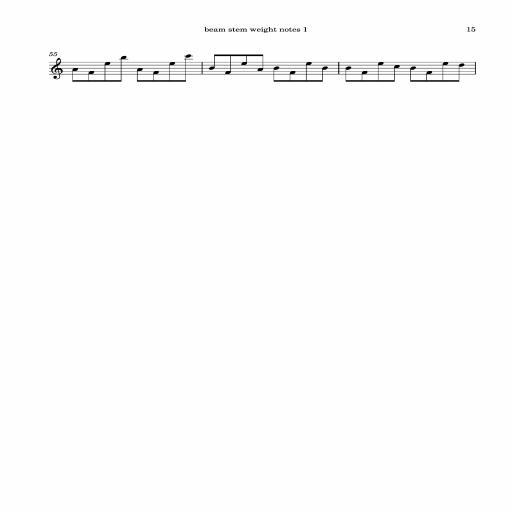eighth_note: (118, 56, 127, 82), (183, 54, 191, 82), (225, 54, 234, 74), (209, 54, 219, 70), (304, 62, 312, 82), (318, 66, 328, 82), (456, 63, 464, 82), (392, 65, 400, 82), (104, 62, 110, 82), (169, 62, 175, 82), (378, 62, 384, 82), (442, 62, 448, 82), (258, 54, 264, 71), (274, 66, 280, 82), (346, 66, 352, 82), (410, 66, 416, 82), (241, 54, 249, 65), (72, 68, 78, 82), (136, 68, 142, 82), (425, 71, 432, 82), (88, 71, 94, 82), (153, 71, 159, 82), (289, 71, 295, 82), (361, 71, 367, 82)
note_head: (209, 66, 215, 70), (322, 66, 328, 70), (410, 66, 416, 70), (186, 54, 191, 58), (274, 66, 279, 70), (346, 66, 351, 70), (459, 63, 464, 67), (72, 68, 78, 71), (120, 56, 126, 59), (137, 68, 143, 71), (153, 71, 159, 74), (169, 62, 175, 65), (225, 71, 231, 74), (241, 62, 247, 65), (306, 62, 312, 65), (378, 62, 384, 65), (394, 65, 400, 68), (89, 71, 94, 74), (105, 62, 110, 65), (258, 68, 263, 71), (290, 71, 295, 74), (362, 71, 367, 74), (427, 71, 432, 74), (443, 62, 448, 65)
staff: (49, 62, 476, 74)
treble_clef: (51, 58, 63, 79)
